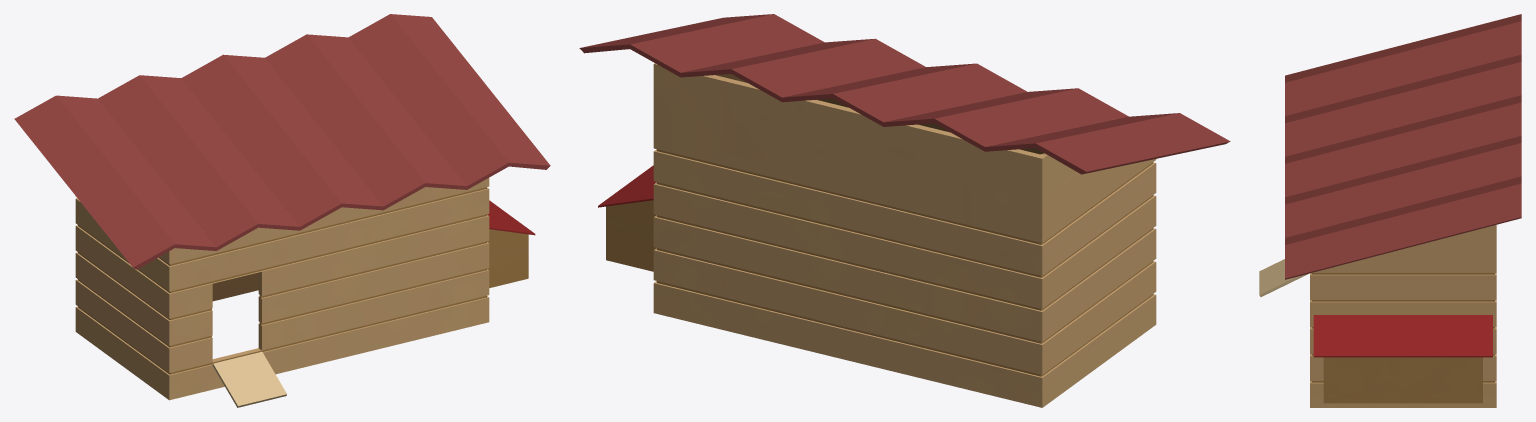
Rendered from mod_BG_AbriCanard.fbx.
The picture shows the model from 3 angles, left to right: view 1: azimuth 30°, elevation 25°; view 2: azimuth 150°, elevation 25°; view 3: azimuth 270°, elevation 25°; orthographic projection. The views are drawn at different scales.
Parts seen in each view (by area): view 1: Cube.002; view 2: Cube.002; view 3: Cube.002.
Boxes of the visible parts, box(x1,y1,x2,y2) form: Cube.002: box(14, 14, 550, 407); Cube.002: box(579, 14, 1230, 407); Cube.002: box(1259, 14, 1521, 407).
Bounding box in the file's own units: 141 × 74.07 × 77.23.
